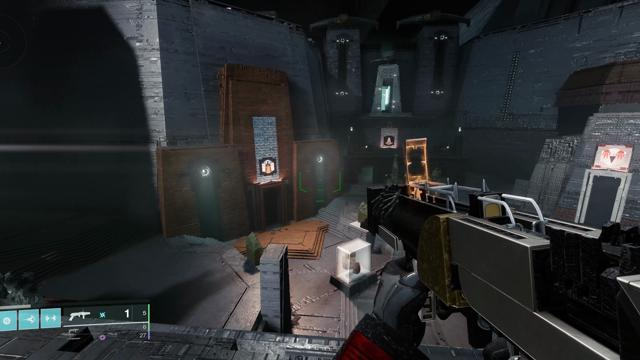enter: (385, 137, 394, 145)
give: (600, 148, 627, 165)
worship: (262, 160, 275, 174)
